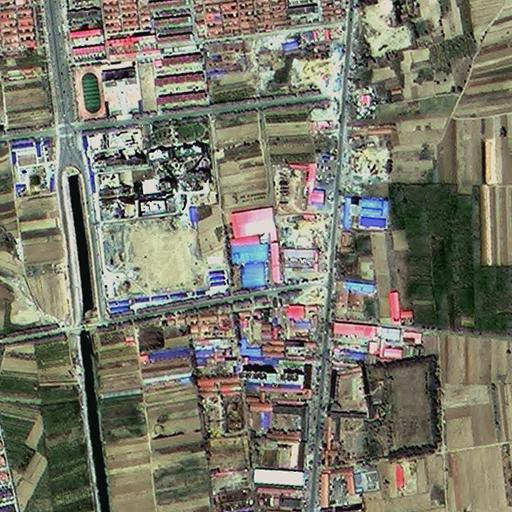school: (72, 59, 143, 123)
